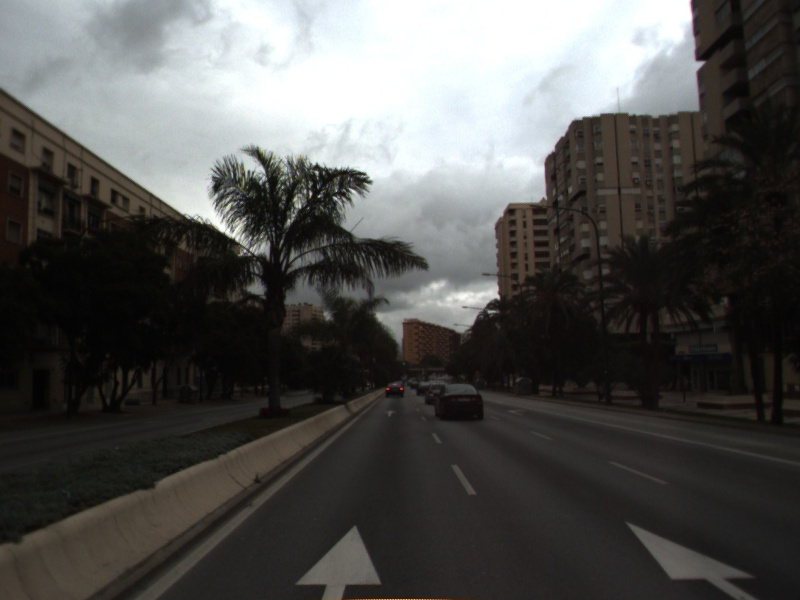RIGHT: (505, 406, 527, 418)
STRAIGHT: (621, 518, 764, 600), (290, 520, 385, 600), (382, 408, 398, 418)
